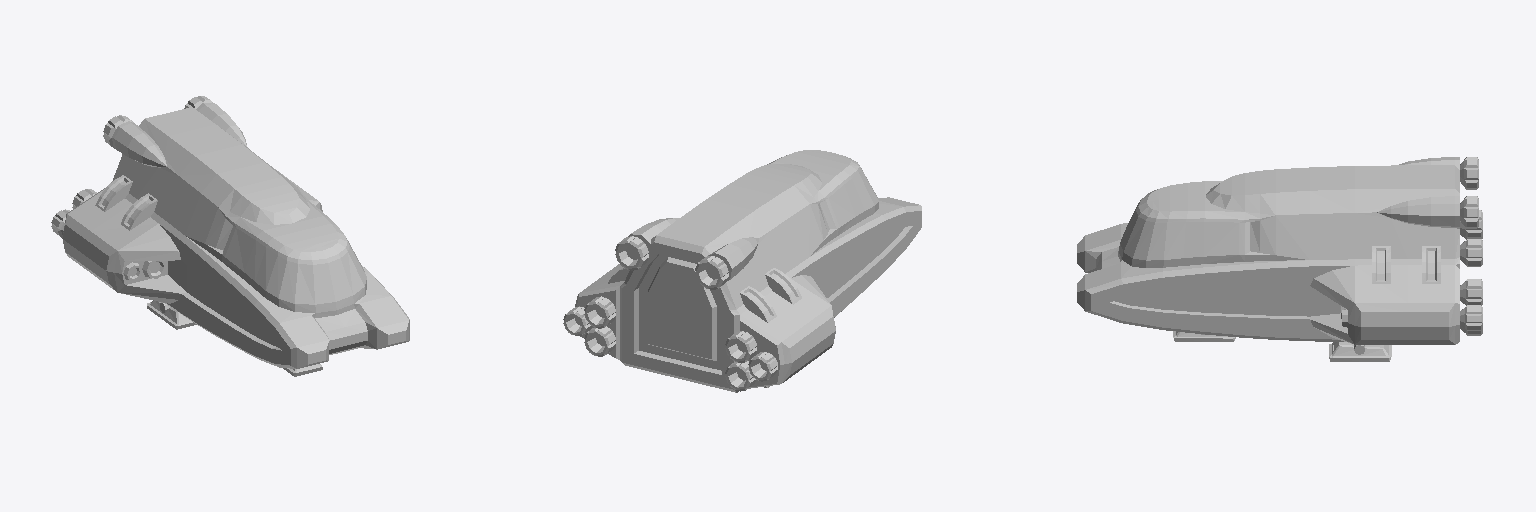
The model's file is CourierShip.obj.
The picture shows the model from 3 angles: view 1: azimuth 30°, elevation 25°; view 2: azimuth 150°, elevation 25°; view 3: azimuth 270°, elevation 25°; orthographic projection.
Parts seen in each view (by area): view 1: Object01, Object02; view 2: Object01, Object02; view 3: Object01, Object02.
Part boxes in pixels (left/top/right/bottom): Object01: left=51, top=96, right=409, bottom=376; Object02: left=225, top=228, right=366, bottom=304; Object01: left=563, top=150, right=921, bottom=392; Object02: left=829, top=168, right=878, bottom=226; Object01: left=1077, top=157, right=1482, bottom=361; Object02: left=1120, top=205, right=1238, bottom=260.
Size of the model in its own units: 64.97 by 45.01 by 105.